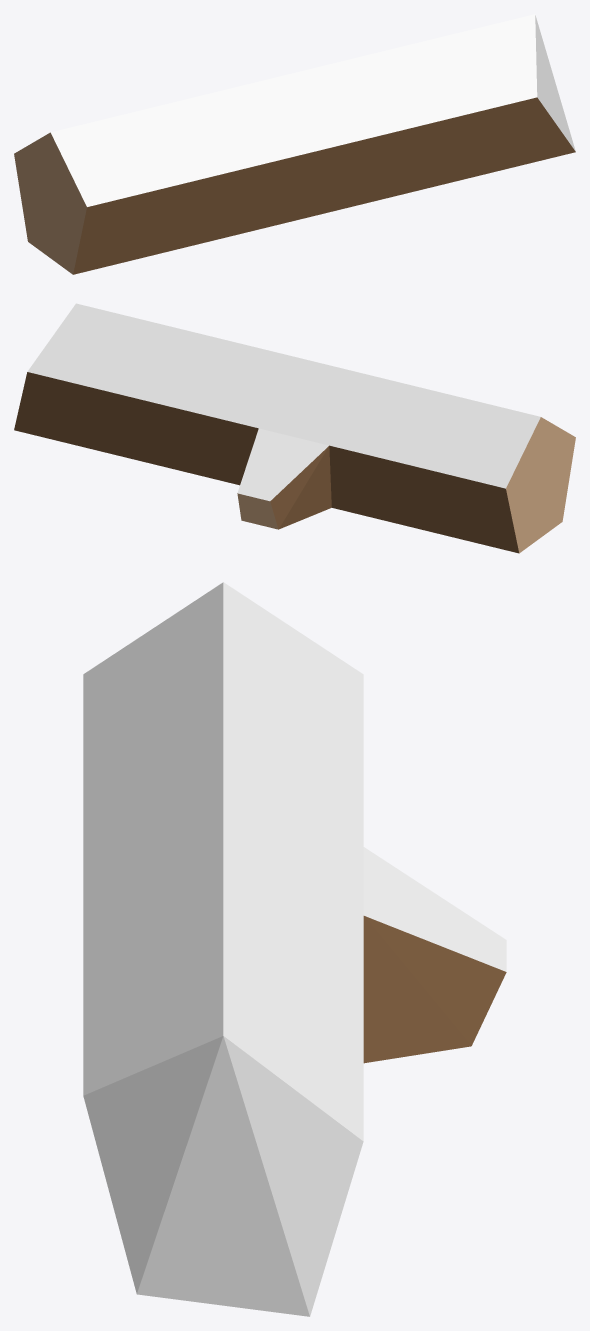
The model's file is Pine_Firewood_Snow_02.fbx.
3 renders of one model, top to bottom at view 1: azimuth 30°, elevation 25°; view 2: azimuth 150°, elevation 25°; view 3: azimuth 270°, elevation 25°, orthographic. The views are drawn at different scales.
Parts seen in each view (by area): view 1: Pine_Firewood_Snow_02; view 2: Pine_Firewood_Snow_02; view 3: Pine_Firewood_Snow_02.
Part boxes in pixels (x1=…): Pine_Firewood_Snow_02: x1=14, y1=14, x2=575, y2=274; Pine_Firewood_Snow_02: x1=14, y1=303, x2=575, y2=553; Pine_Firewood_Snow_02: x1=83, y1=582, x2=506, y2=1316.
Bounding box in the file's own units: 54.97 × 12.56 × 19.95.
